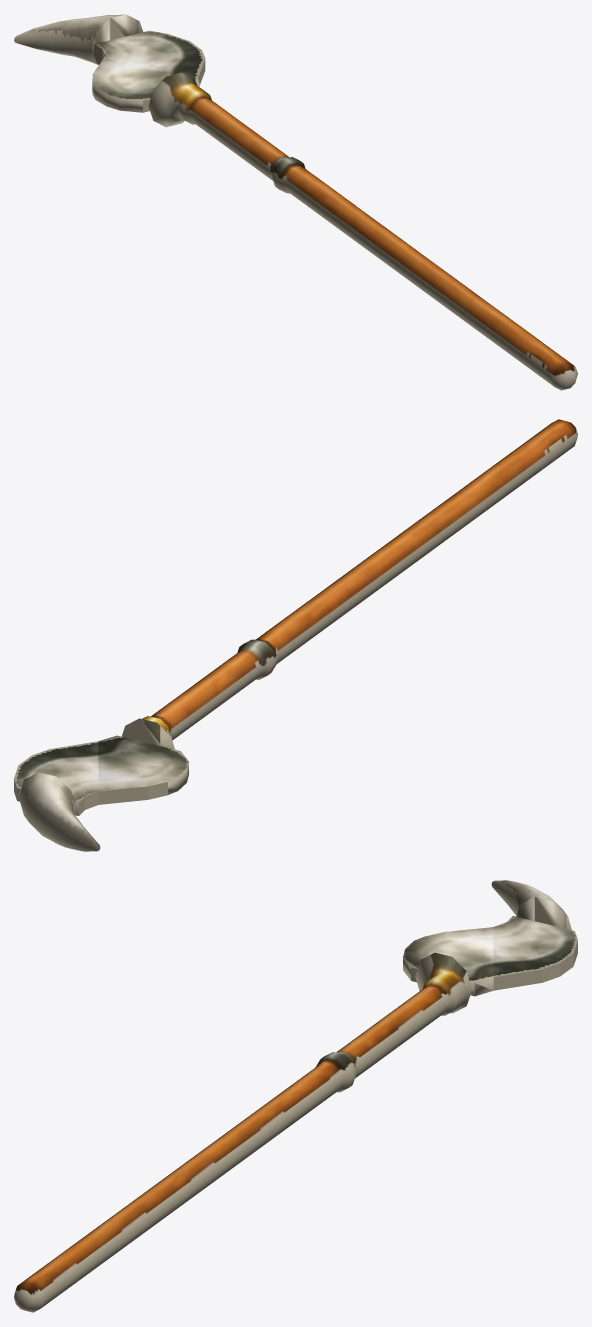
The model's file is item_mm9_10062.glb.
3 renders of one model, top to bottom at view 1: azimuth 30°, elevation 25°; view 2: azimuth 150°, elevation 25°; view 3: azimuth 330°, elevation 25°, orthographic. The views are drawn at different scales.
Visible parts, largest first — view 1: d10062; view 2: d10062; view 3: d10062.
Boxes of the visible parts, x1,y1,x2,y2 form: d10062: [14, 14, 577, 390]; d10062: [14, 419, 577, 851]; d10062: [14, 880, 577, 1312].
Size of the model in its own units: 37.42 by 15.01 by 254.
1 material, 1 textured.
